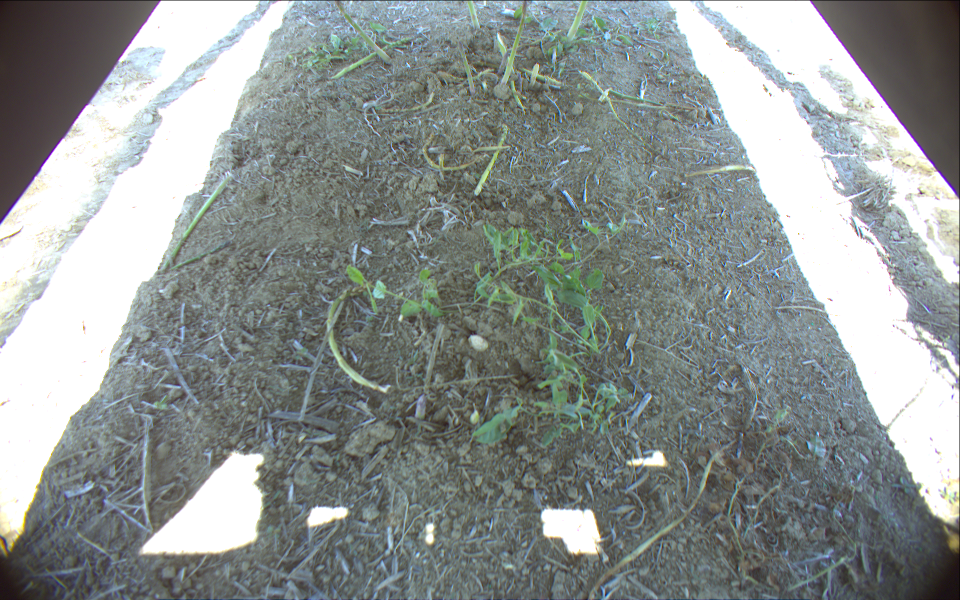aspa: (335, 1, 394, 61), (495, 1, 529, 94), (454, 35, 477, 96), (560, 1, 588, 49), (464, 1, 484, 33)
